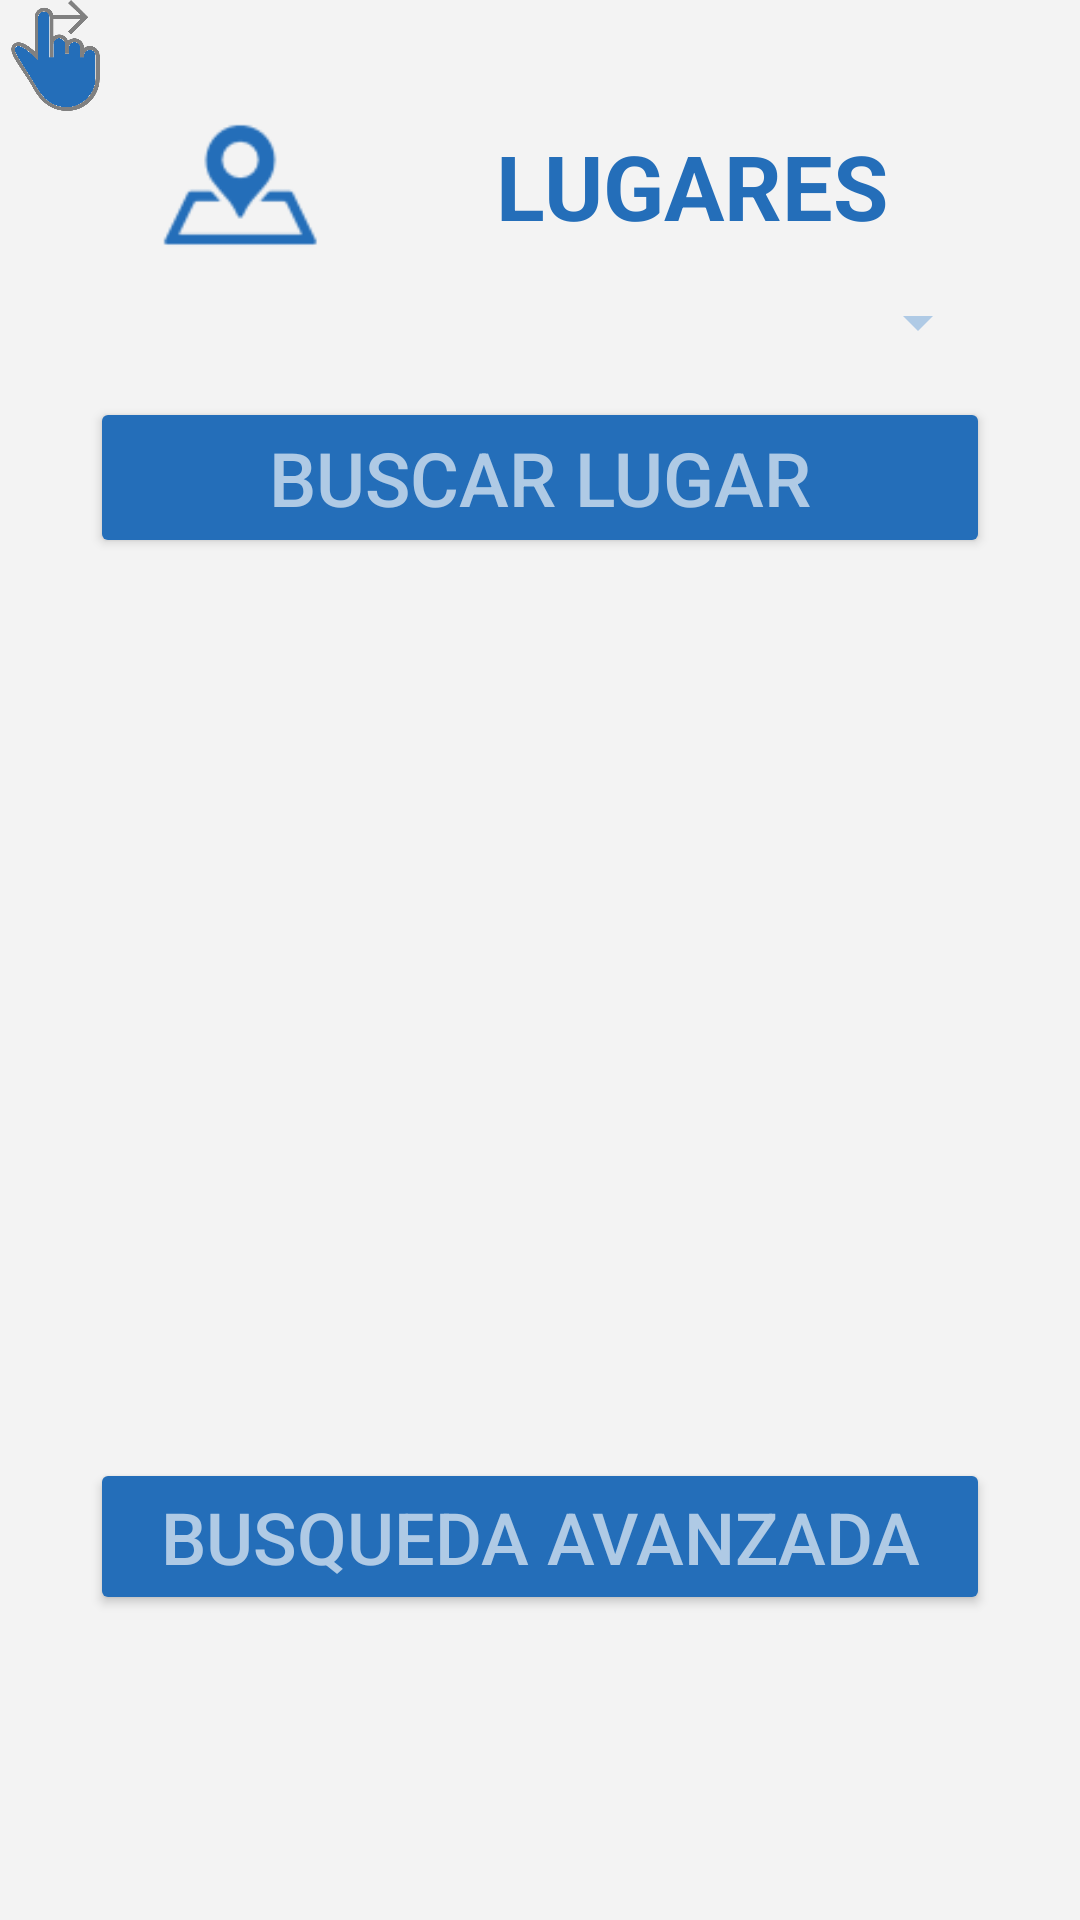

Icons on this 1080x1920 Android screen, each with its box as (x1=x1, y1=y1, x2=x2, y2=y2):
finger busqueda: (x1=11, y1=0, x2=100, y2=111)
